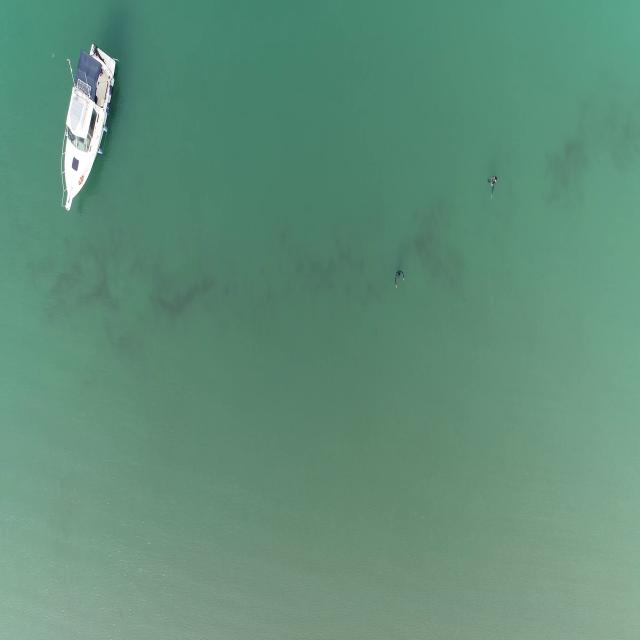boat: (58, 42, 119, 213)
person: (392, 268, 406, 291), (488, 171, 499, 199)
